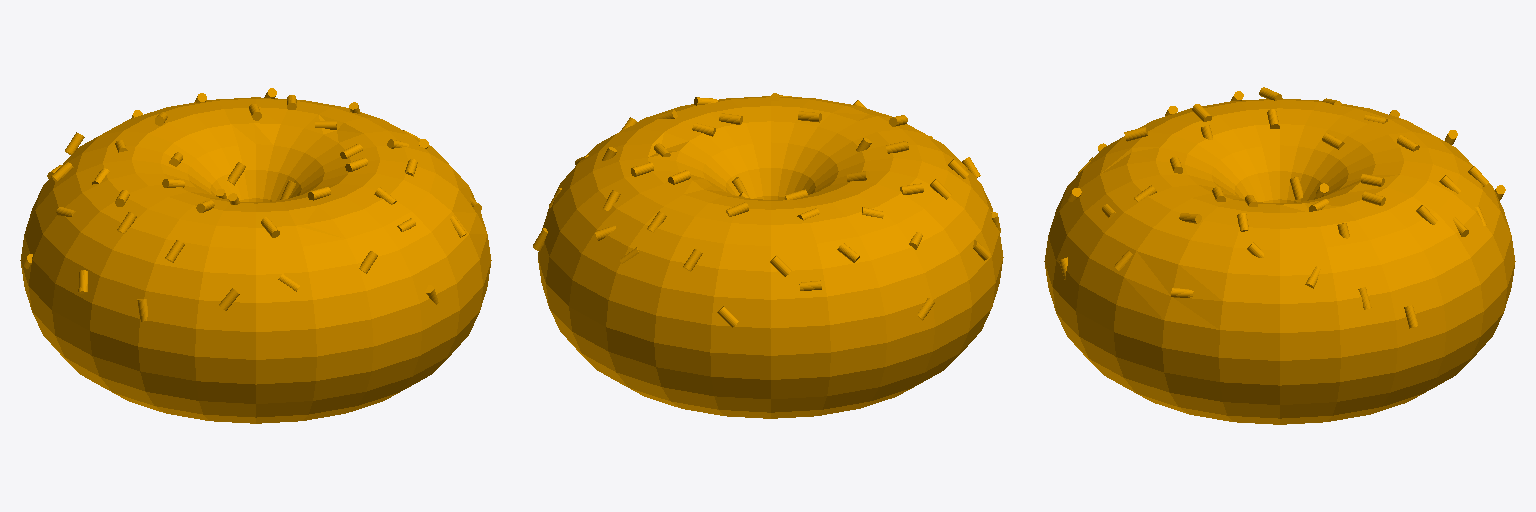
robot.urdf — donut:
<?xml version="1.0"?>
<robot name="donut">

  <link name="base_link">
    <visual>
      <geometry>
        <mesh filename="package://donut/donut_vis.dae"/>
        <!-- <box size="0.6 0.1 0.2"/> -->
      </geometry>
    </visual>
    <collision>
      <geometry>
        <mesh filename="package://donut/donut_col.stl"/>
        <!-- <box size="0.6 0.1 0.2"/> -->
      </geometry>
    </collision>
  </link>

  <joint name="joint1" type="continuous">
    <origin rpy="0 0 0" xyz="0 0 0"/>
    <parent link="base_link"/>
    <child link="arm_link1"/>
  </joint>

  <link name="arm_link1">
    <visual>
      <geometry>
        <mesh filename="package://donut/donut_vis.dae"/>
        <!-- <box size="0.6 0.1 0.2"/> -->
      </geometry>
    </visual>
    <collision>
      <geometry>
        <mesh filename="package://donut/donut_col.stl"/>
        <!-- <box size="0.6 0.1 0.2"/> -->
      </geometry>
    </collision>
  </link>

</robot>

--- Facts derived from the render (not from the file) ---
3 views of the same robot in one strip: view 1: azimuth 30°, elevation 25°; view 2: azimuth 150°, elevation 25°; view 3: azimuth 270°, elevation 25° (orthographic).
Robot: donut — 2 links, 1 joints (1 continuous); root link base_link; default pose: all joints at 0.
Visible links, largest first — view 1: base_link; view 2: base_link; view 3: base_link.
Link boxes in pixels (x1=…): base_link: x1=20, y1=88, x2=491, y2=423; base_link: x1=533, y1=93, x2=1003, y2=418; base_link: x1=1044, y1=87, x2=1515, y2=424.
Bounding box of the posed robot: 1 × 1 × 0.4954 m (x, y, z).
2 mesh visuals loaded from 1 distinct referenced files (1 Collada DAE).